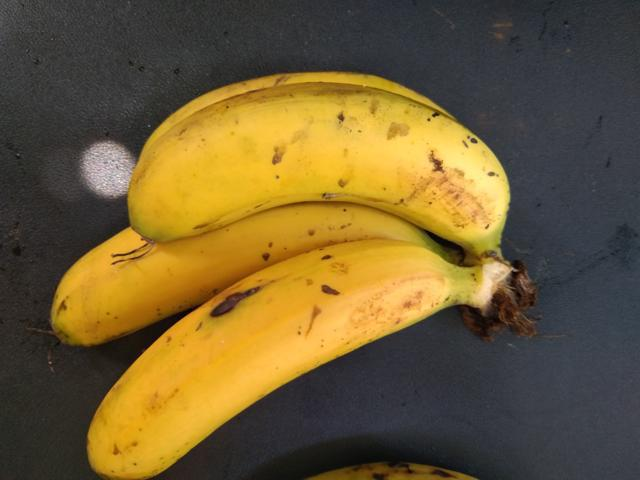ripe: (120, 60, 515, 246), (87, 254, 421, 471), (32, 162, 417, 350)
